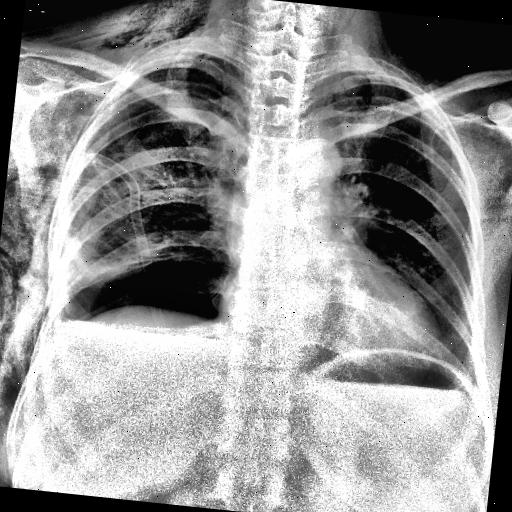10- Pleural effusion: (48, 318, 216, 386), (42, 320, 229, 374), (41, 282, 102, 362)
12- Pneumothorax: (62, 58, 238, 256), (73, 40, 245, 236), (76, 54, 260, 170), (52, 240, 242, 340), (50, 246, 236, 338), (61, 248, 229, 336)
7- Lung Opacity: (74, 34, 228, 266)
9- Other lesion: (0, 158, 246, 310), (92, 0, 489, 94), (10, 158, 255, 266), (0, 82, 72, 410), (31, 0, 213, 66), (26, 0, 216, 63), (367, 13, 512, 87), (356, 10, 486, 92)
